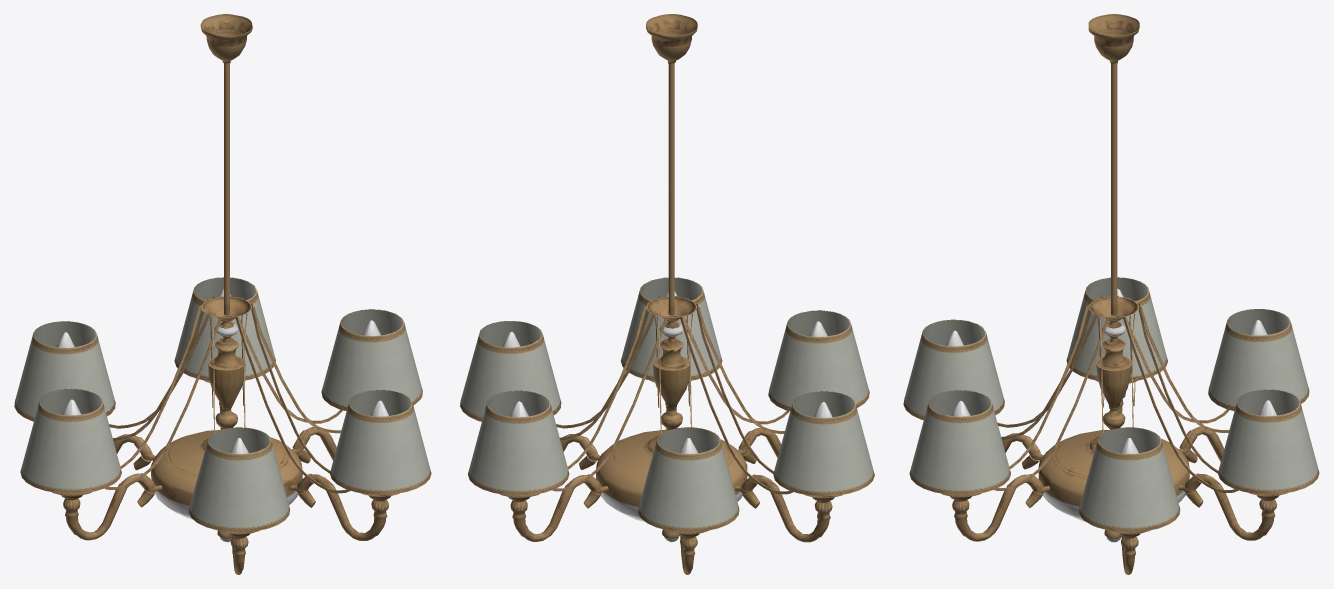
Rendered from Chandelier_02.glb.
The picture shows the model from 3 angles, left to right: view 1: azimuth 30°, elevation 25°; view 2: azimuth 150°, elevation 25°; view 3: azimuth 270°, elevation 25°; orthographic projection.
Visible parts, largest first — view 1: Chandelier_02; view 2: Chandelier_02; view 3: Chandelier_02.
Boxes of the visible parts, box(x1,y1,x2,y2) form: Chandelier_02: box(14, 14, 431, 574); Chandelier_02: box(460, 14, 874, 574); Chandelier_02: box(903, 14, 1319, 574).
Size of the model in its own units: 0.6788 by 0.8481 by 0.619.
Materials: 2 (1 with a texture image).
